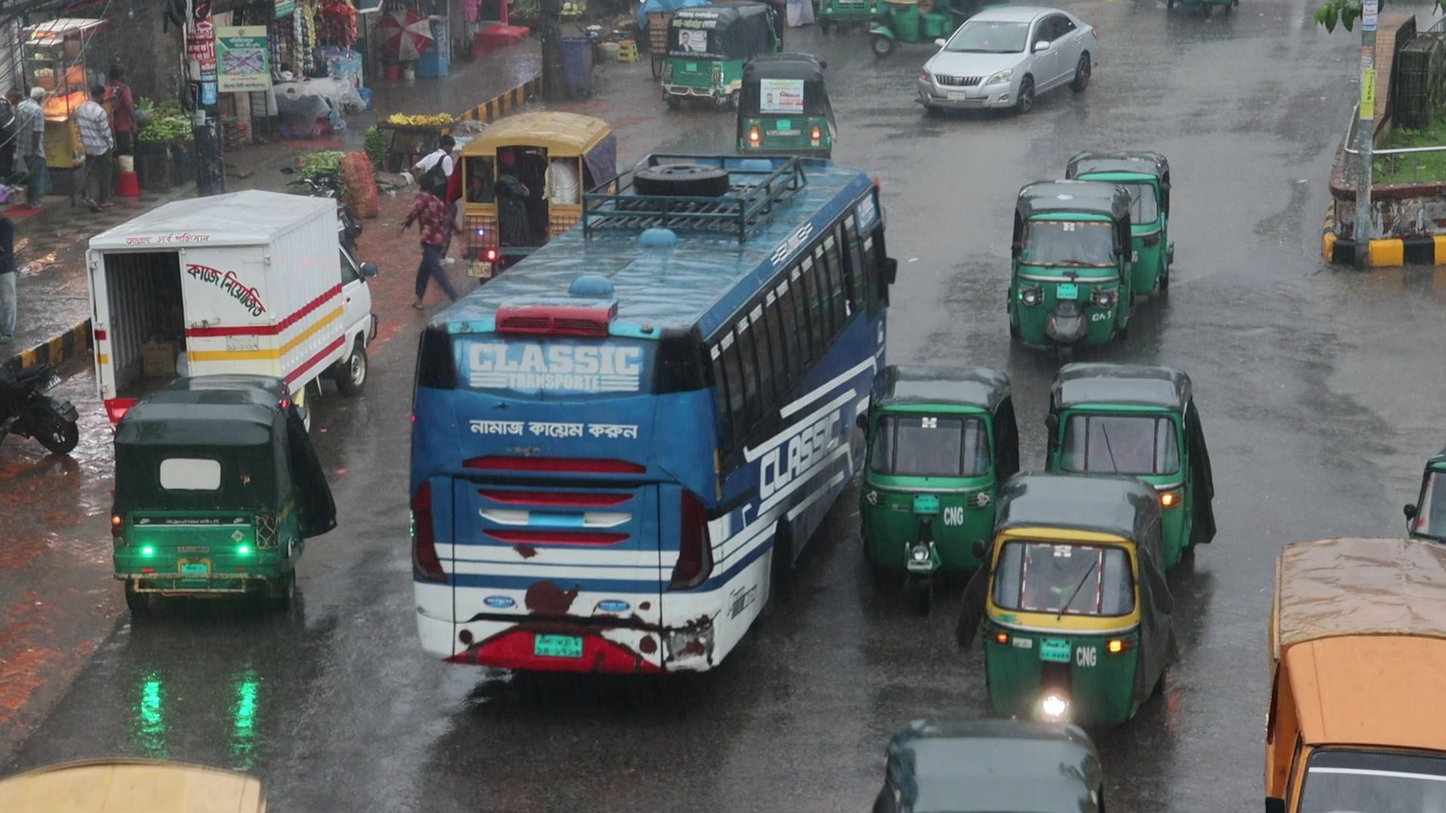Bus: (403, 149, 894, 700)
Car: (912, 2, 1103, 118)
